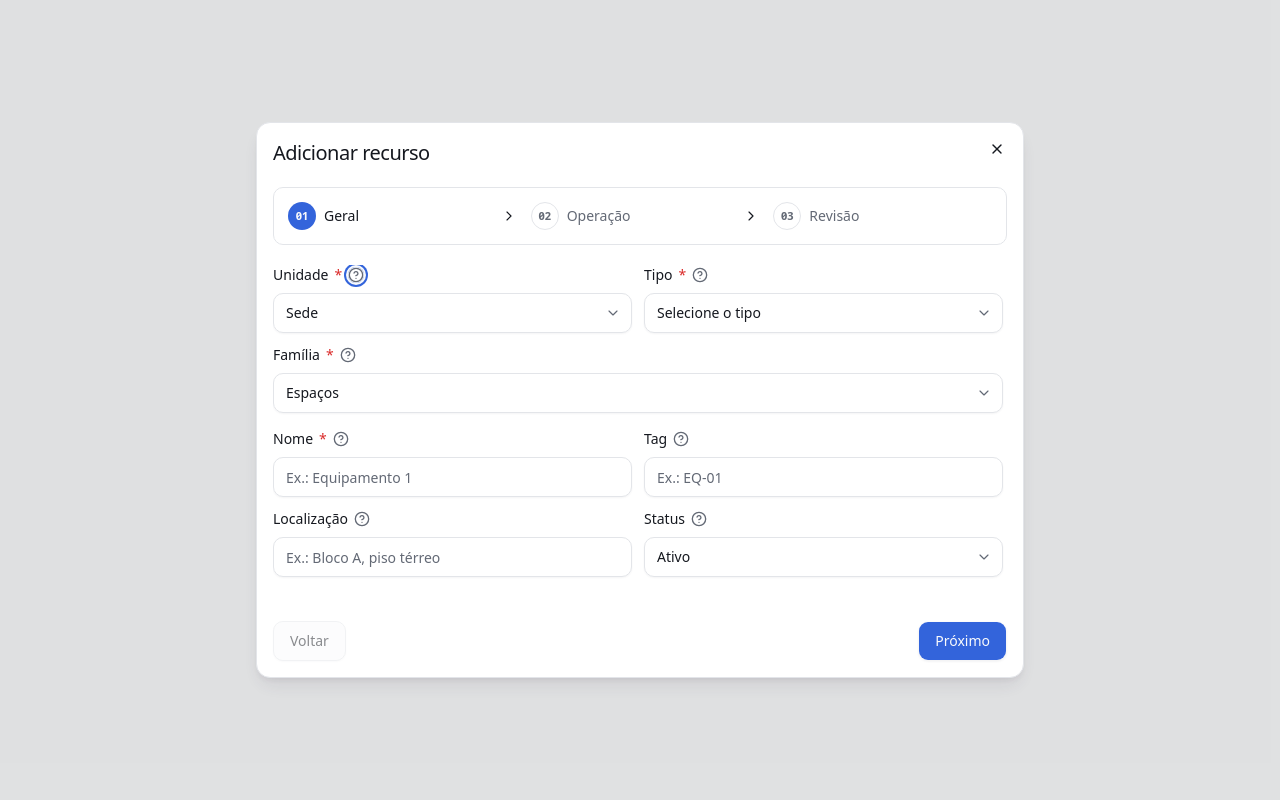
AssetWizard validity gate › keeps Next enabled and focuses the first invalid field with an accessible error
Expected: the text "O nome é obrigatório." is not shown
Click the button "Próximo".
click(963, 641)  # box [918,621,1007,661]
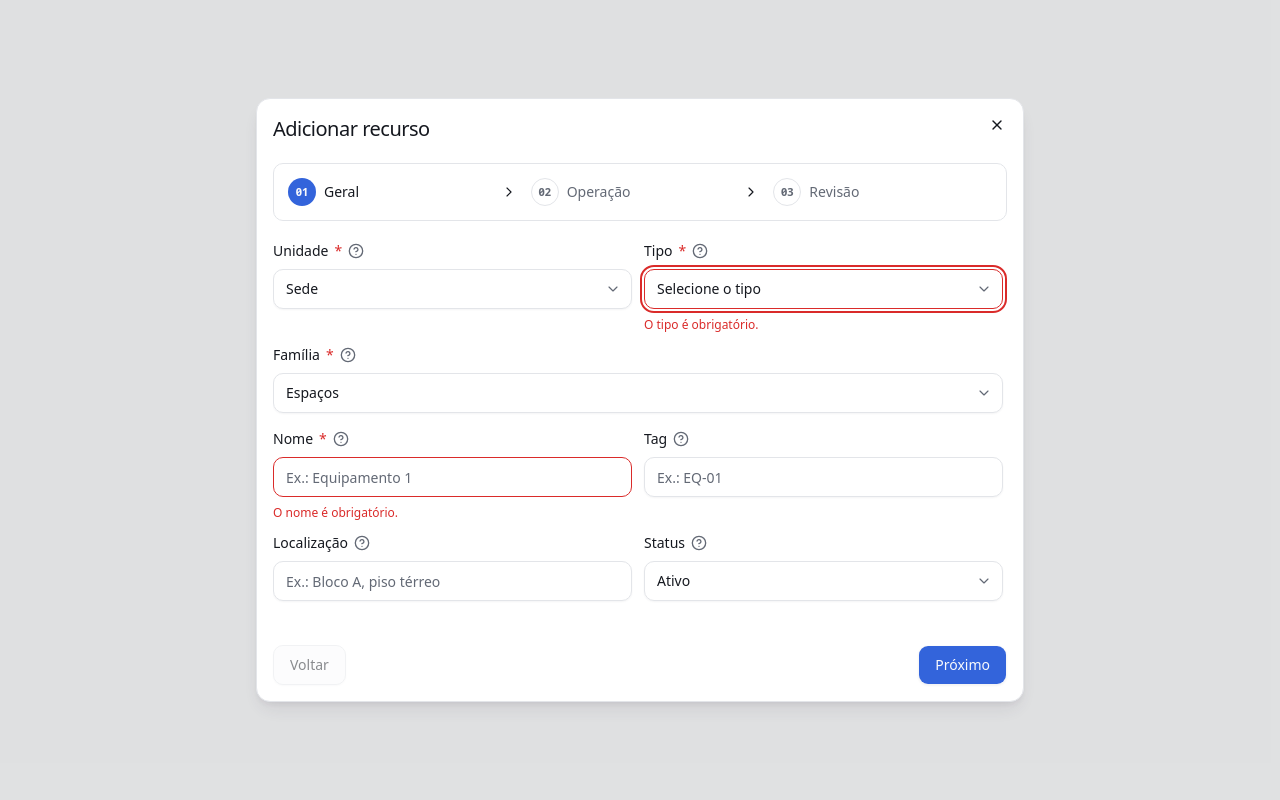
Expected: the dropdown labelled "Selecione o tipo ▼" is marked as invalid
Click the dropdown labelled "Selecione o tipo ▼".
click(709, 288)  # box [644,269,1003,309]
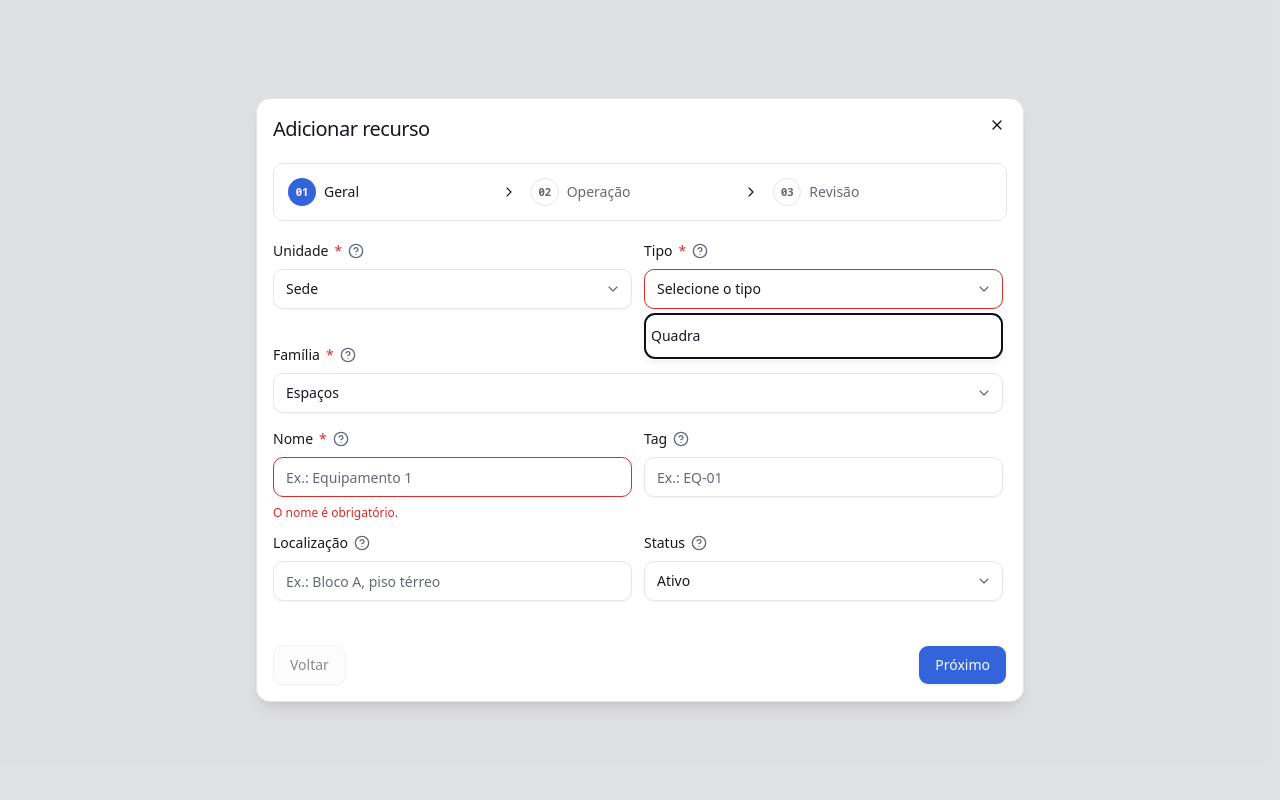
Click the option "Quadra".
click(676, 336)  # box [651,326,700,345]
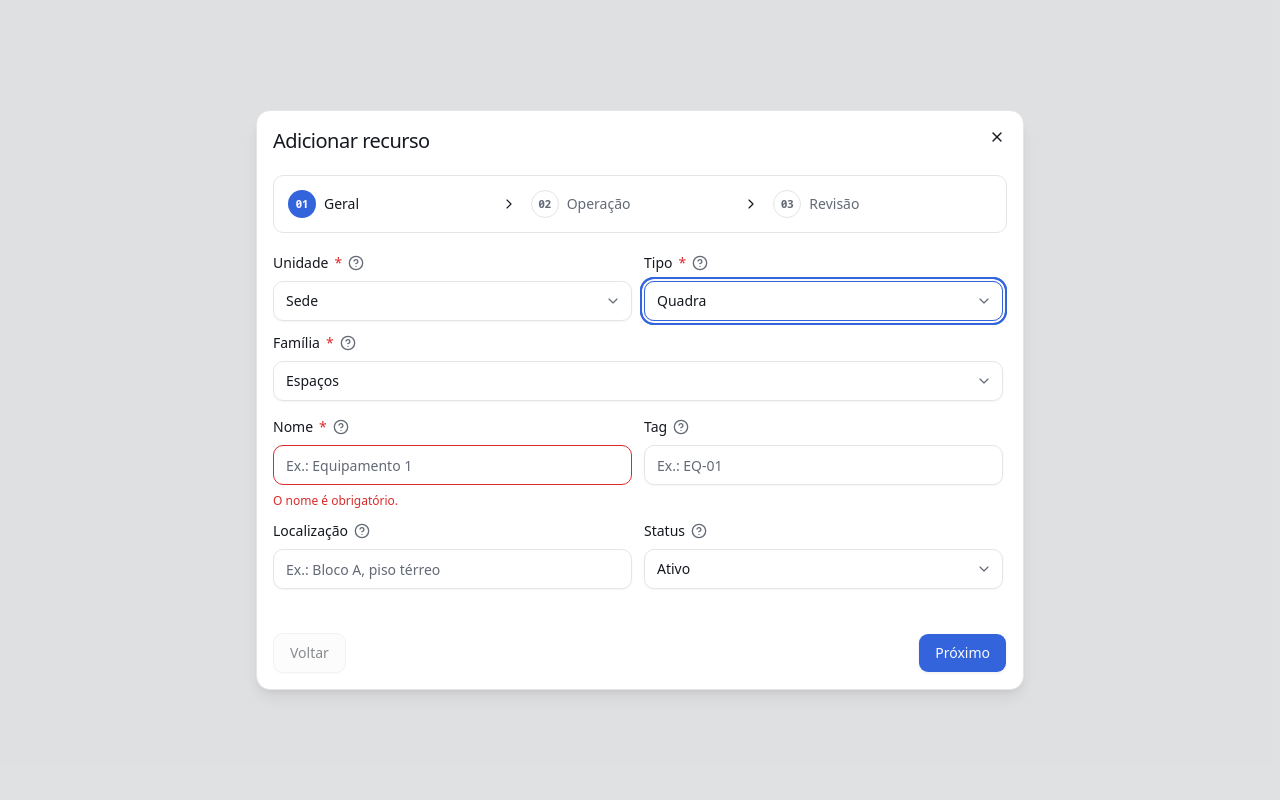
Click the button "Próximo".
click(963, 653)  # box [918,633,1007,673]
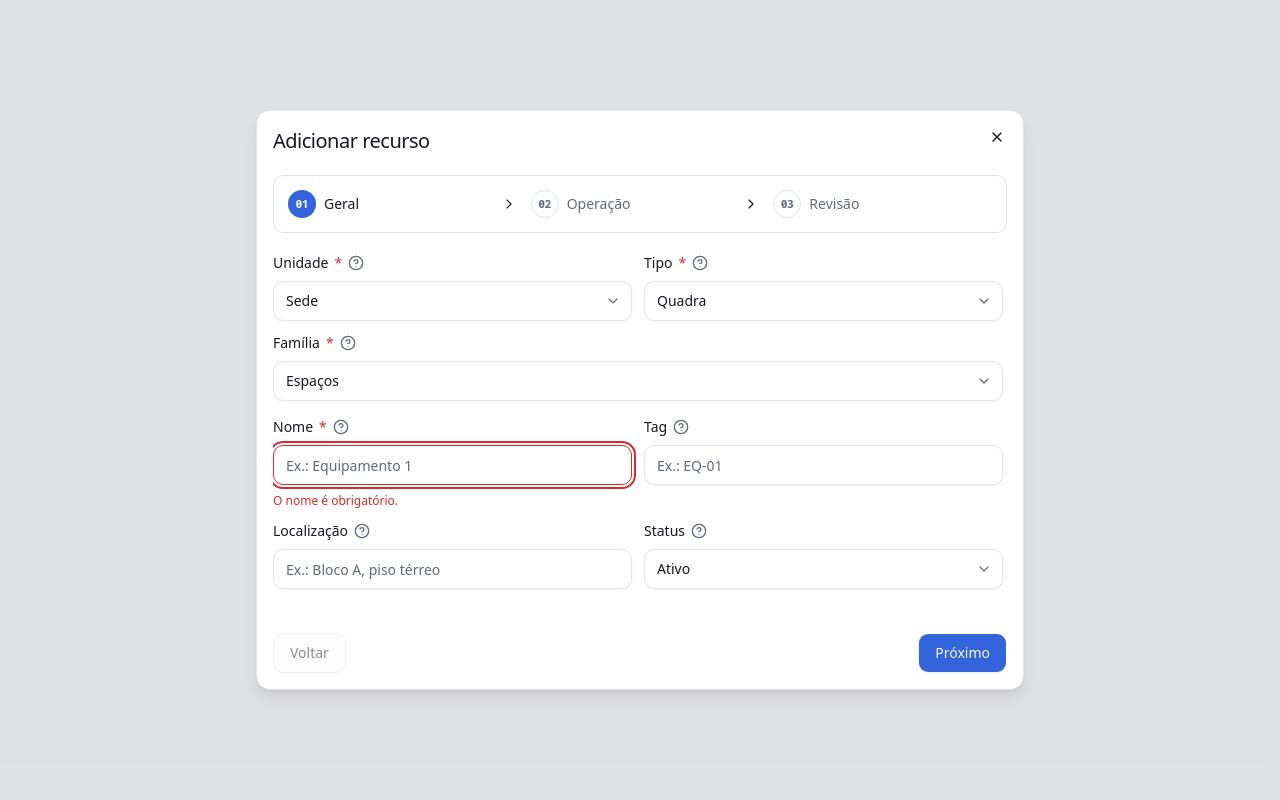
Expected: the label "Nome *" is shown, [273,419,349,435]
Type "Ventilador 1" into the field labelled "Nome *".
click(452, 465); type("Ventilador 1")  # box [273,445,632,485]
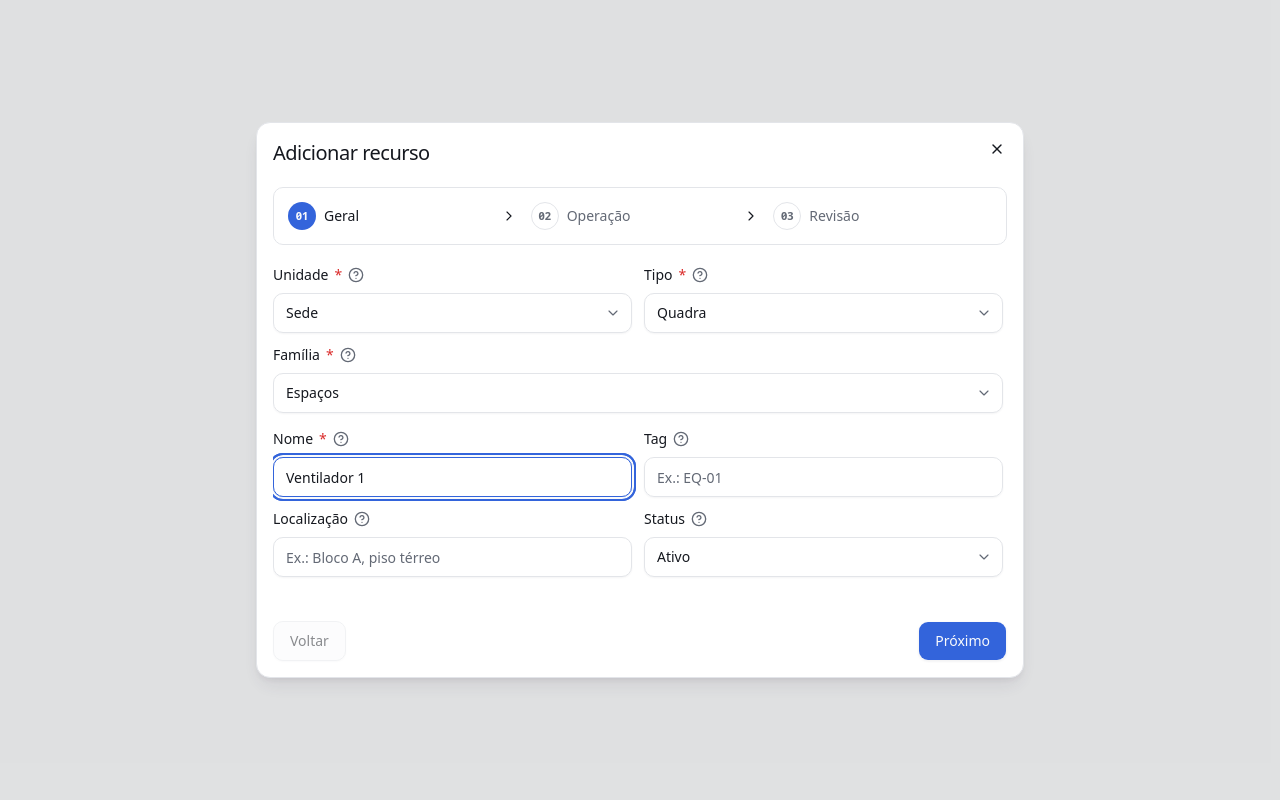
Expected: the field labelled "Nome *" does not have attribute aria-invalid="true", [273,457,632,497]
Click the button "Próximo".
click(963, 641)  # box [918,621,1007,661]
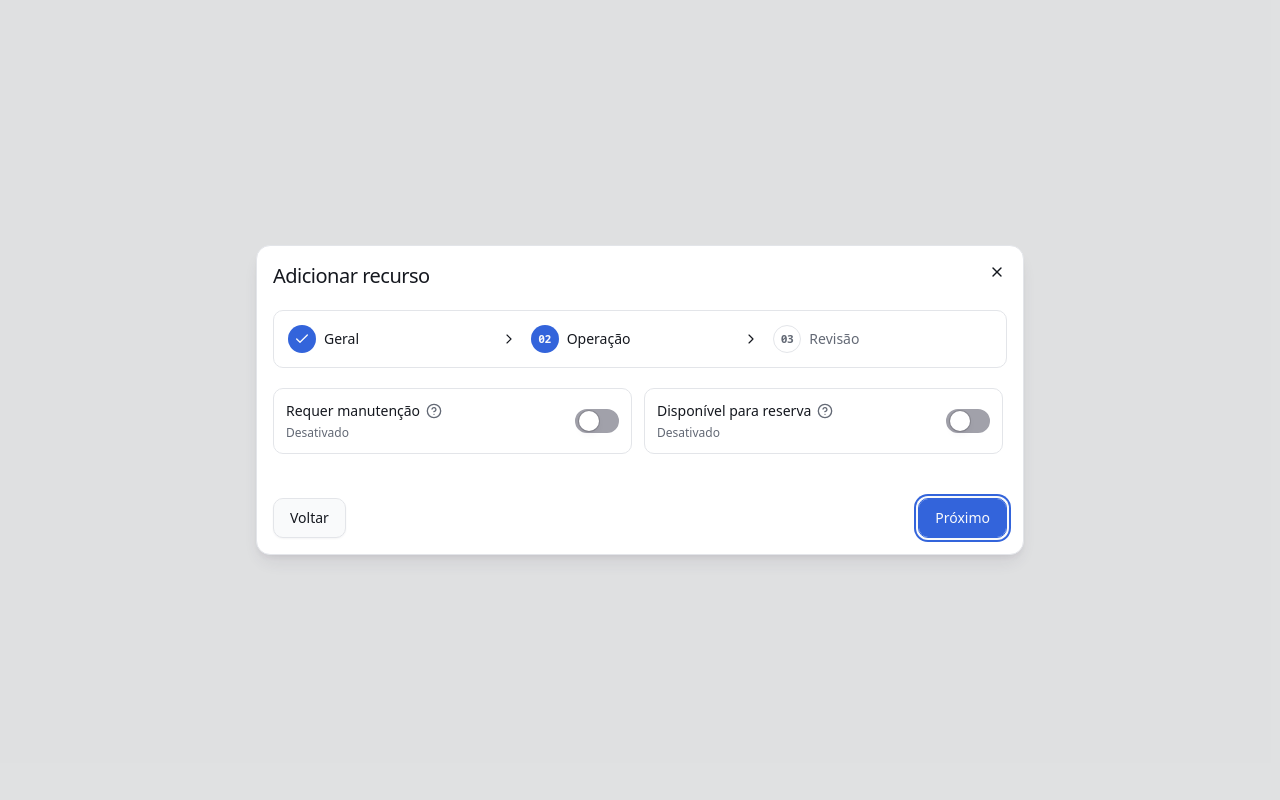
Expected: the button "Voltar" is enabled, [273,498,346,538]
